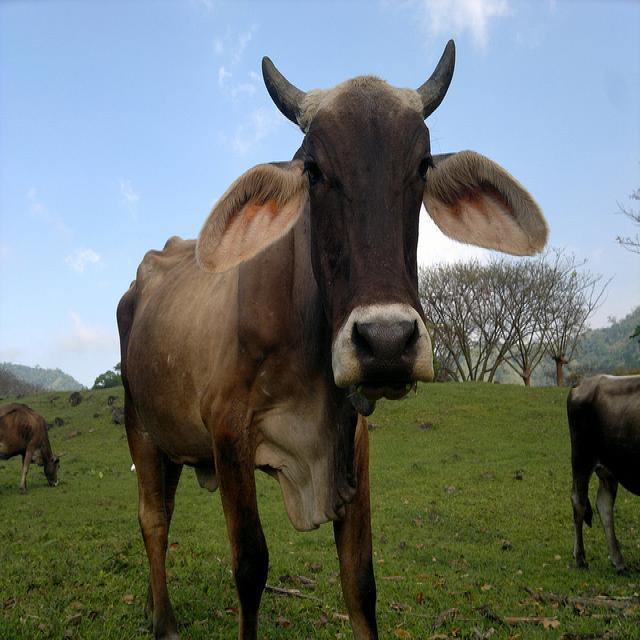cow: (114, 33, 543, 639), (561, 372, 639, 575), (0, 401, 59, 491)
